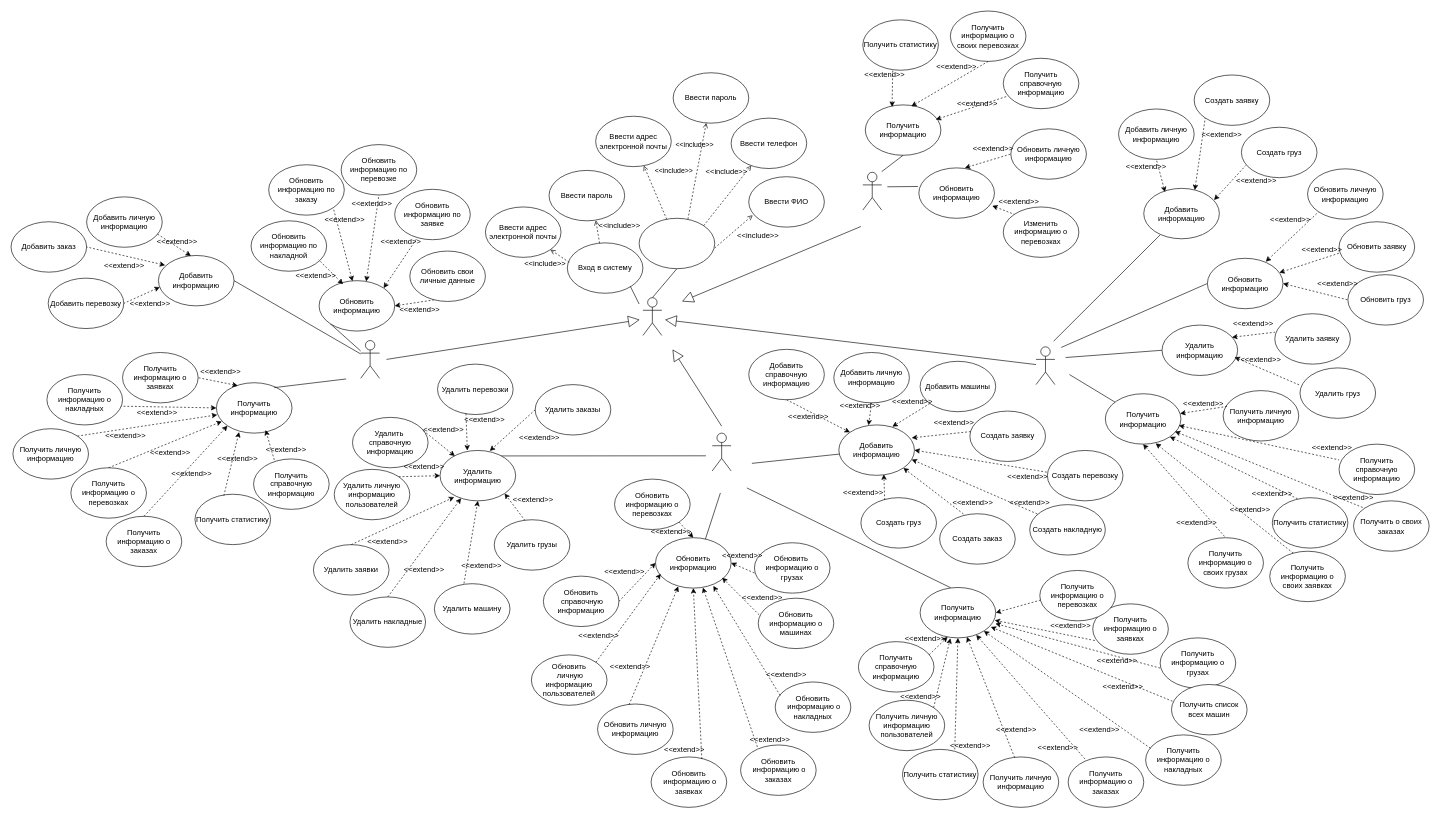
Image size: 1440x818. Some labels were removed from this diagram. Each missing label, with the centre of its shape:
"Администратор" goes at point 721,451.
"Водитель" goes at point 872,191.
"Клиент" goes at point 1045,365.
"Пользователь" goes at point 652,316.
"Регистрация в системе" goes at point 677,243.
"Сотрудник" goes at point 370,359.
